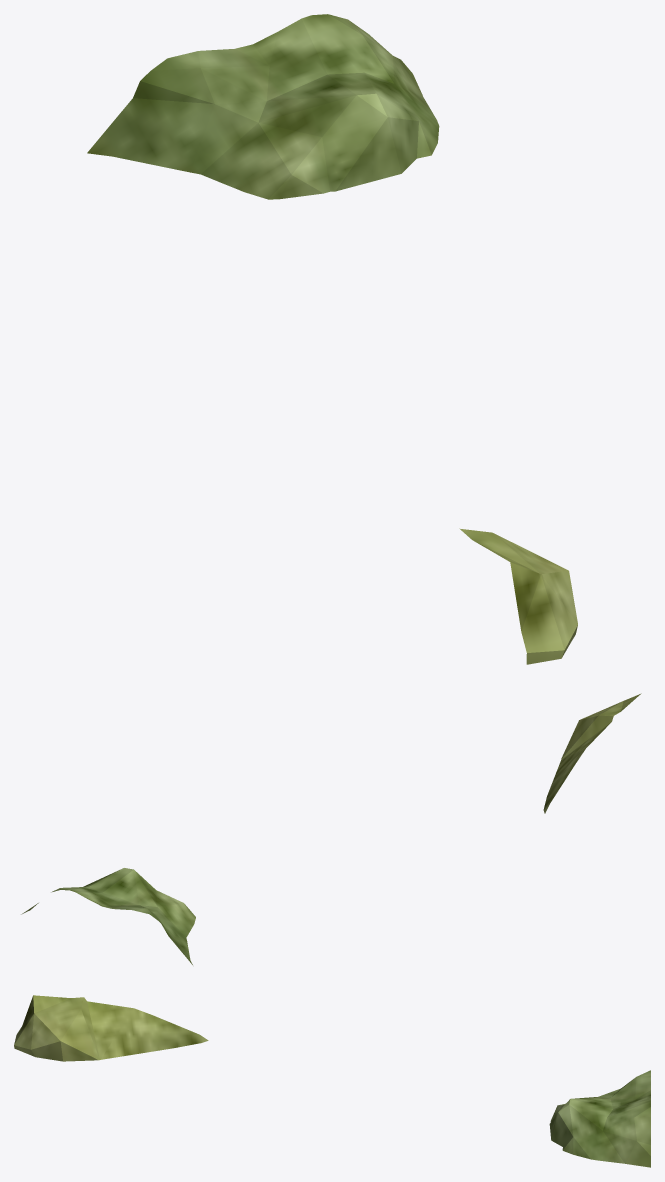
3 views of the same model, one above another, from view 1: azimuth 30°, elevation 25°; view 2: azimuth 150°, elevation 25°; view 3: azimuth 270°, elevation 25° (orthographic). The views are drawn at different scales.
Size of the model in its own units: 0.8636 by 0.1439 by 1.83.
1 material, 1 textured.
